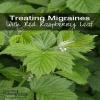Raspberry leaf: (22, 51, 76, 81), (0, 42, 43, 57), (68, 34, 99, 45), (62, 25, 74, 42), (65, 44, 94, 51)
